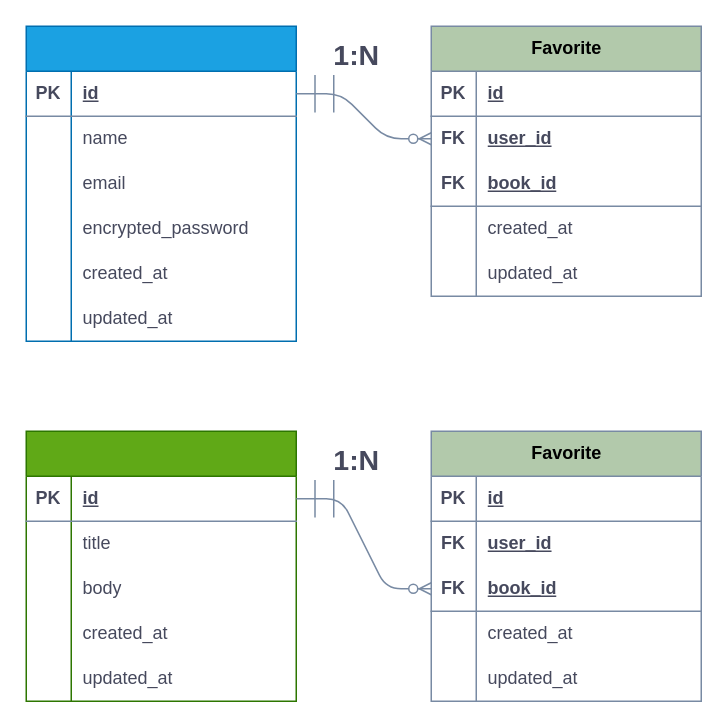
Some shapes in this 728 by 728 pixel diagram are drawn without their labels. The box of each missing label's shape, as (x1, y1, x2, y2) in pixels:
Book: (25, 430, 296, 701)
User: (25, 25, 296, 341)
